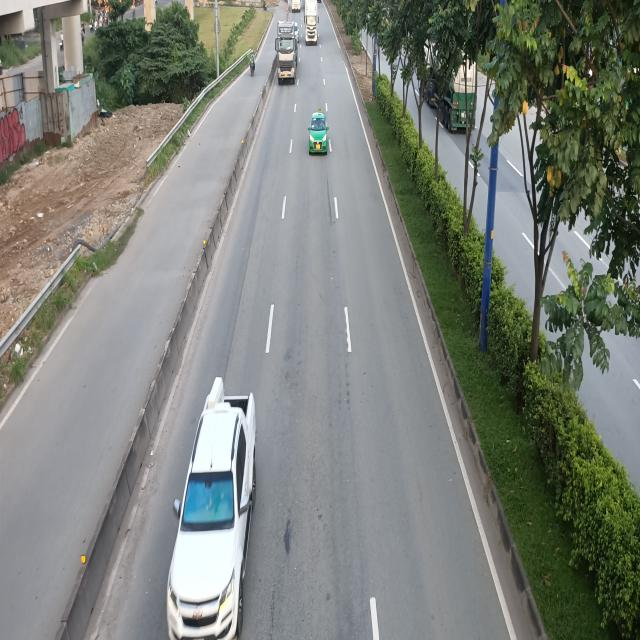car: (163, 390, 253, 635), (308, 110, 330, 156)
container: (276, 22, 298, 84), (303, 0, 319, 44)
